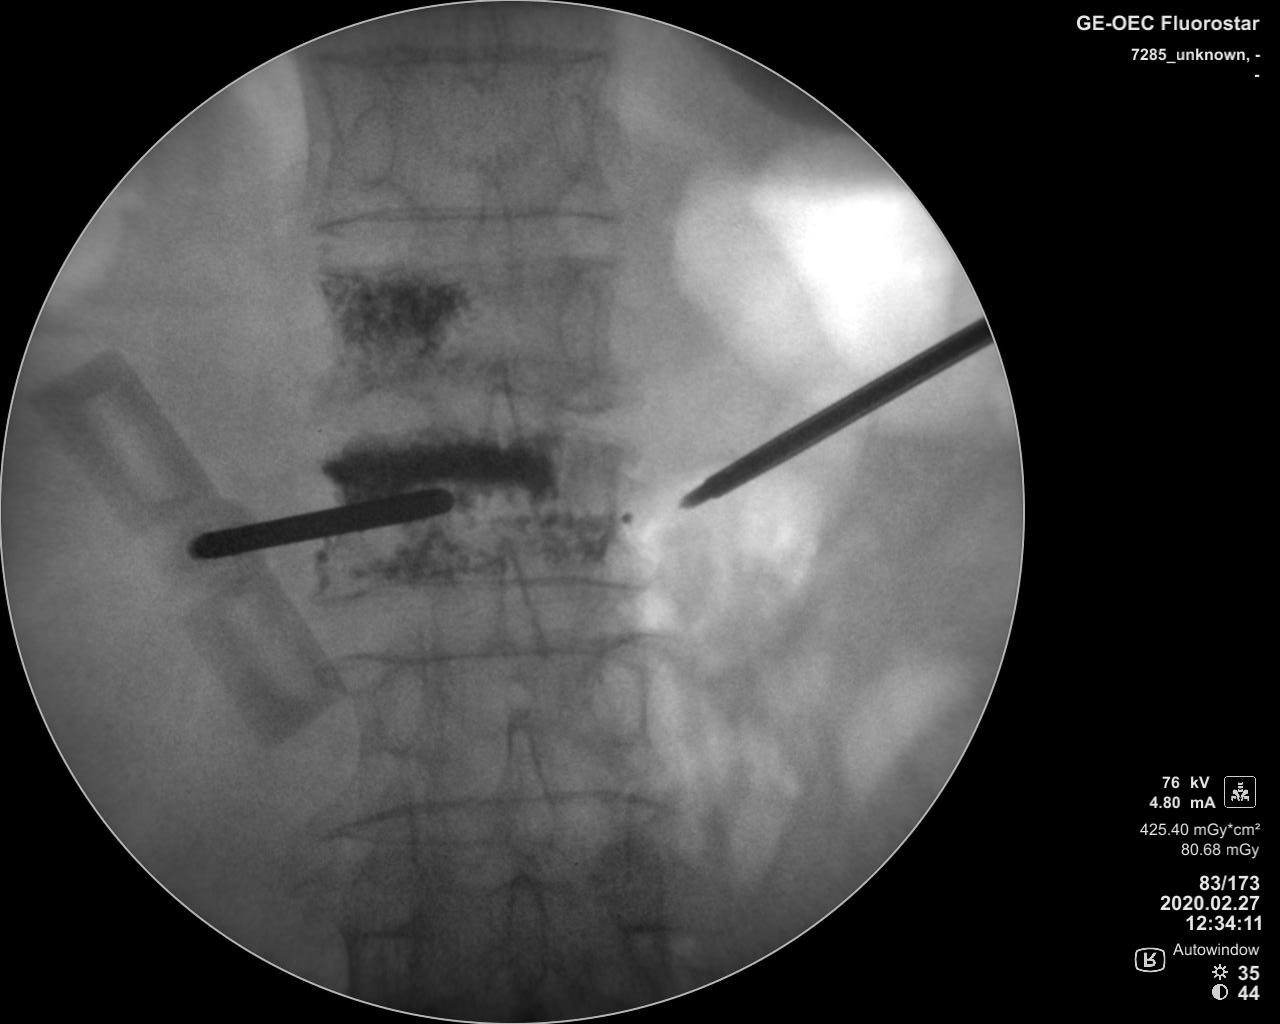eyes: (582, 657, 647, 745), (566, 453, 613, 563), (371, 669, 429, 757), (344, 100, 400, 191), (556, 278, 601, 383), (551, 91, 592, 181)
line: (324, 789, 671, 828), (324, 632, 653, 665), (304, 572, 660, 598), (311, 205, 636, 232), (302, 43, 622, 64)
nose: (494, 709, 550, 857), (492, 537, 546, 678), (469, 167, 520, 301), (478, 356, 526, 492), (502, 872, 550, 996), (455, 8, 504, 99)
